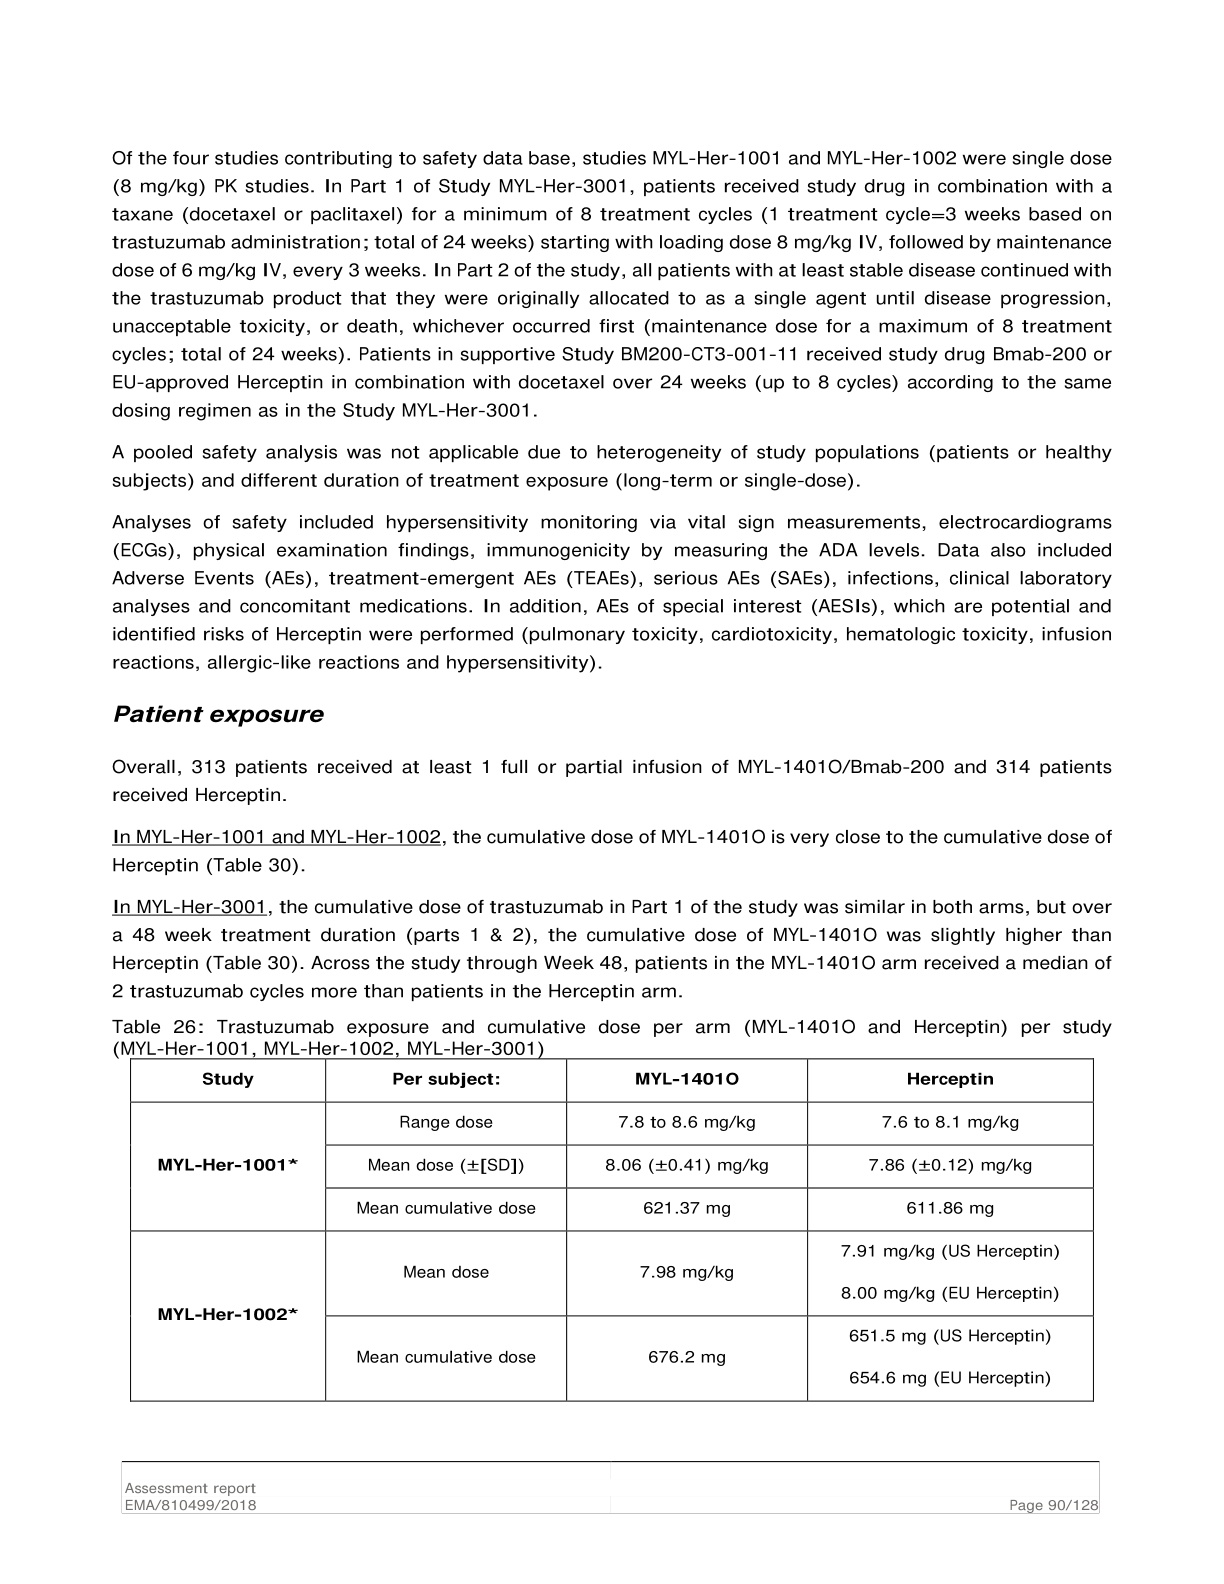merged_cells: (129, 1057, 1094, 1401)
